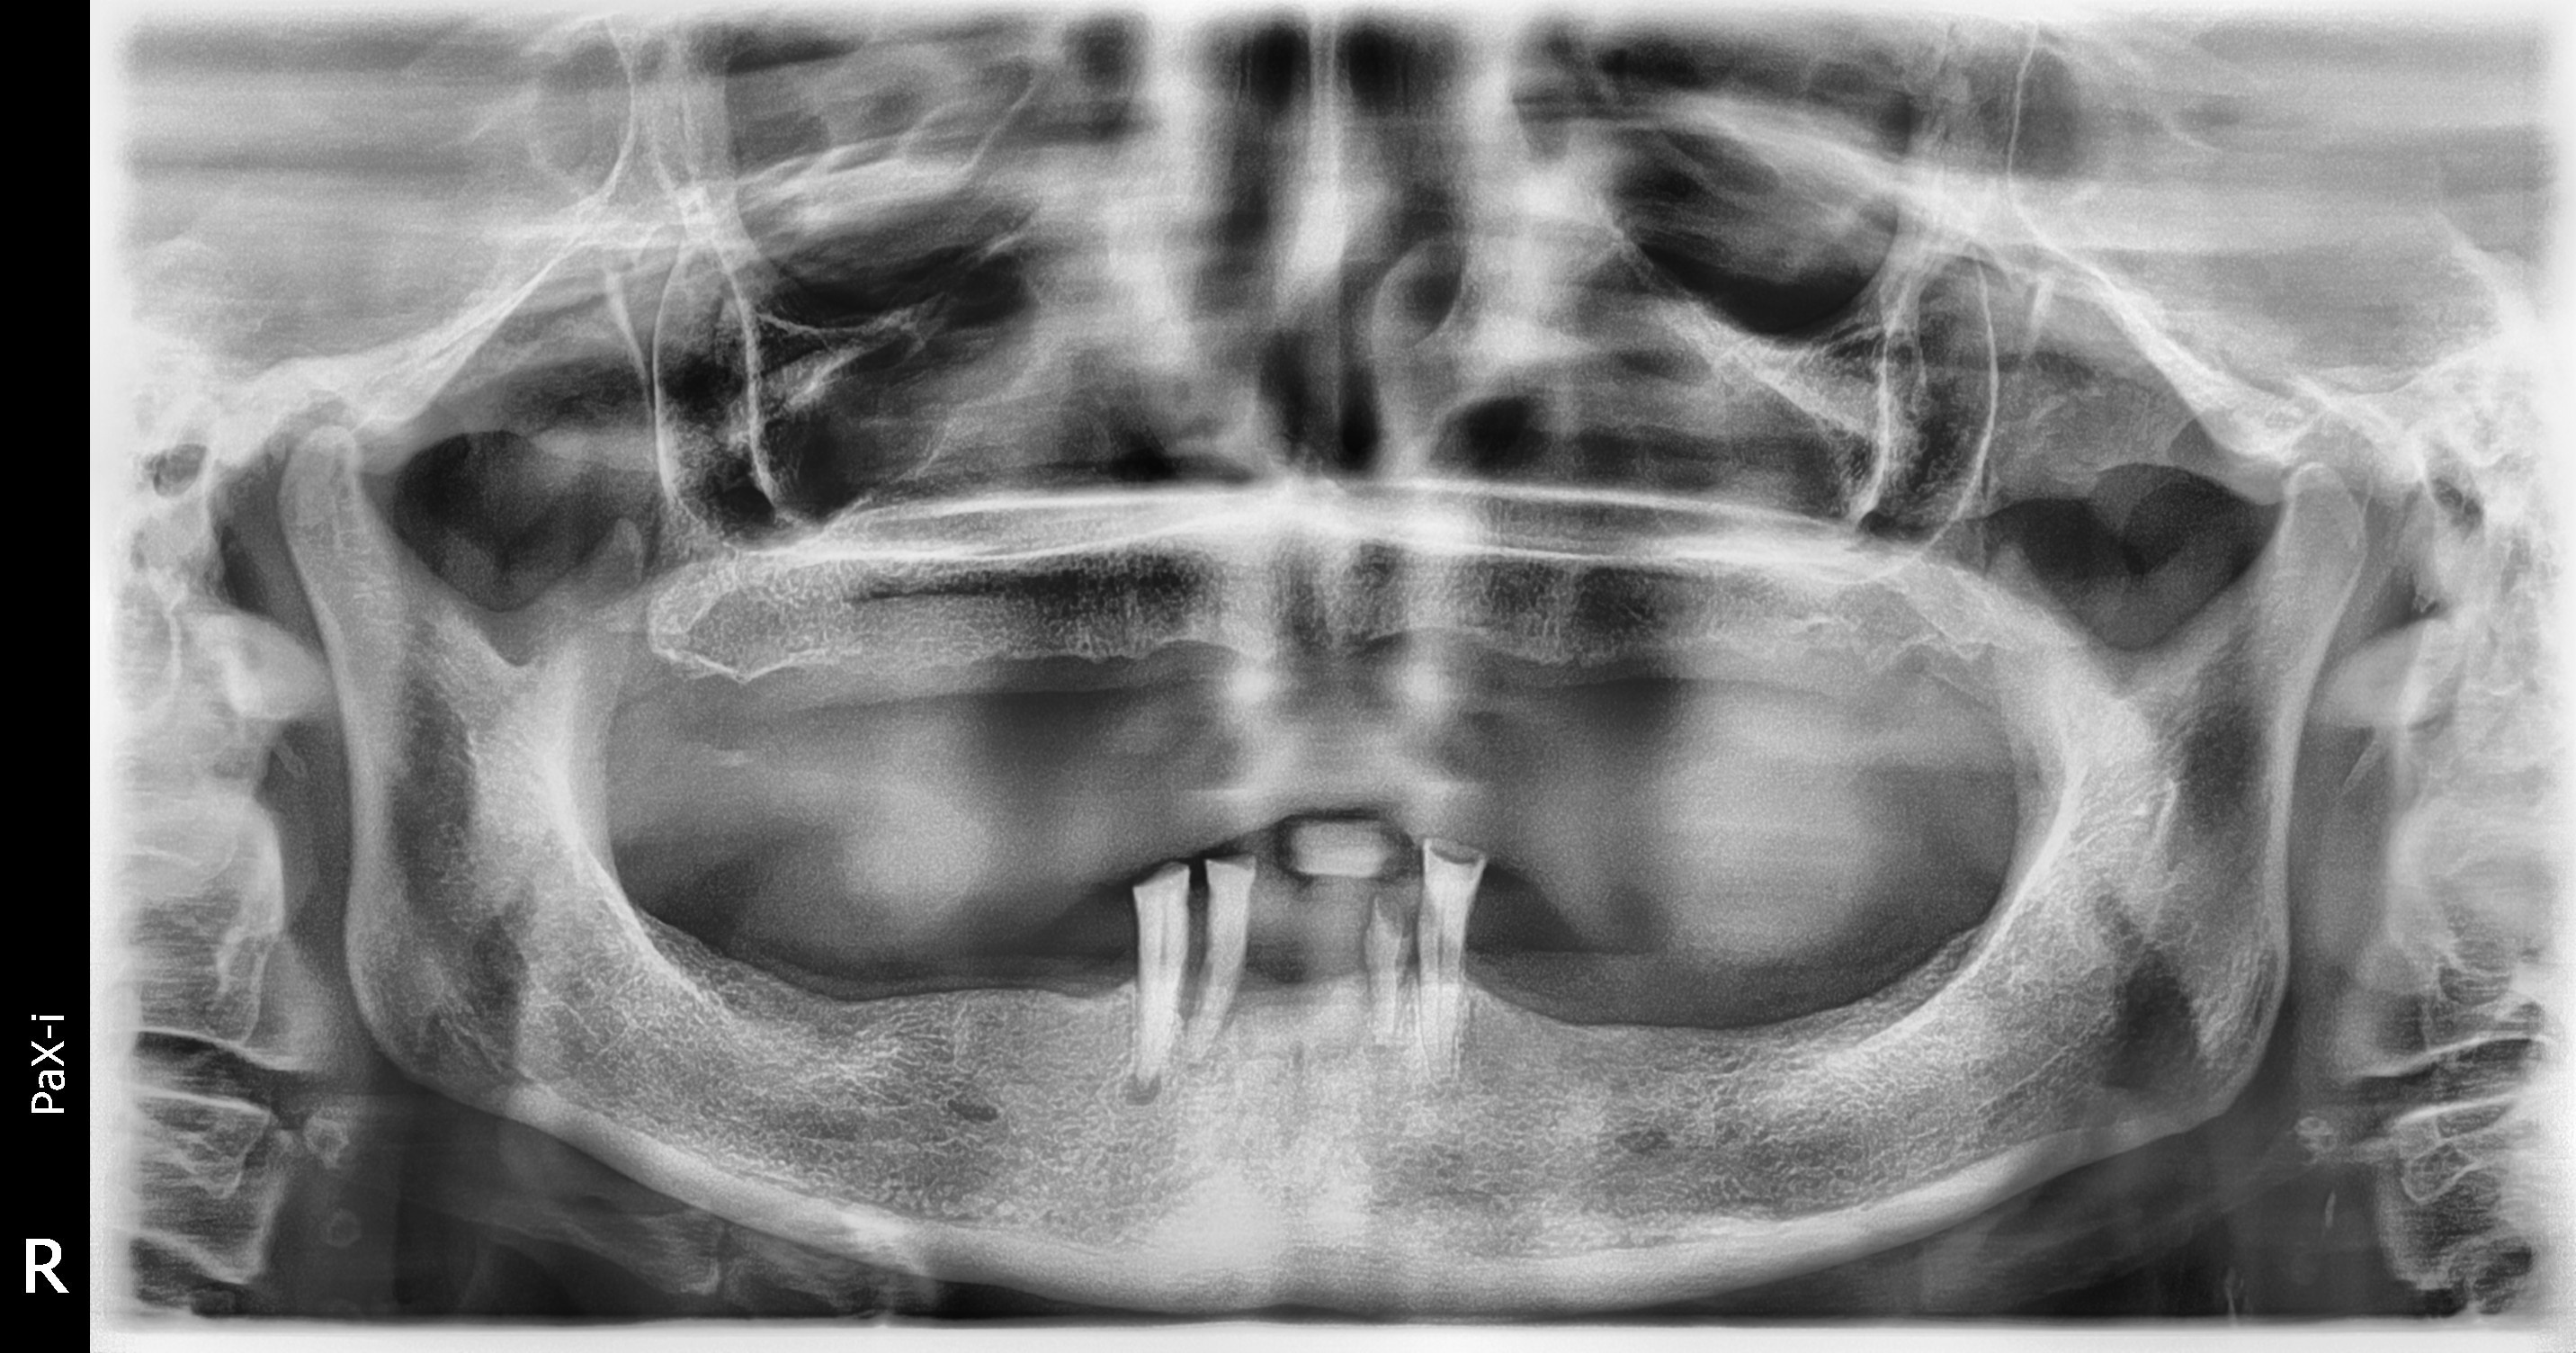API: (1119, 1067, 1160, 1106)
BON: (1182, 987, 1198, 1039)
ROT: (1361, 893, 1414, 1043)
